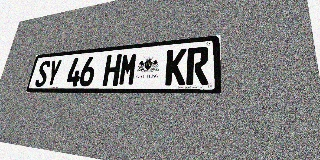4: (65, 57, 84, 87)
6: (78, 56, 97, 86)
H: (102, 54, 122, 86)
K: (165, 48, 187, 85)
M: (118, 53, 138, 86)
R: (186, 46, 209, 85)
S: (34, 60, 51, 87)
Y: (45, 59, 62, 87)
